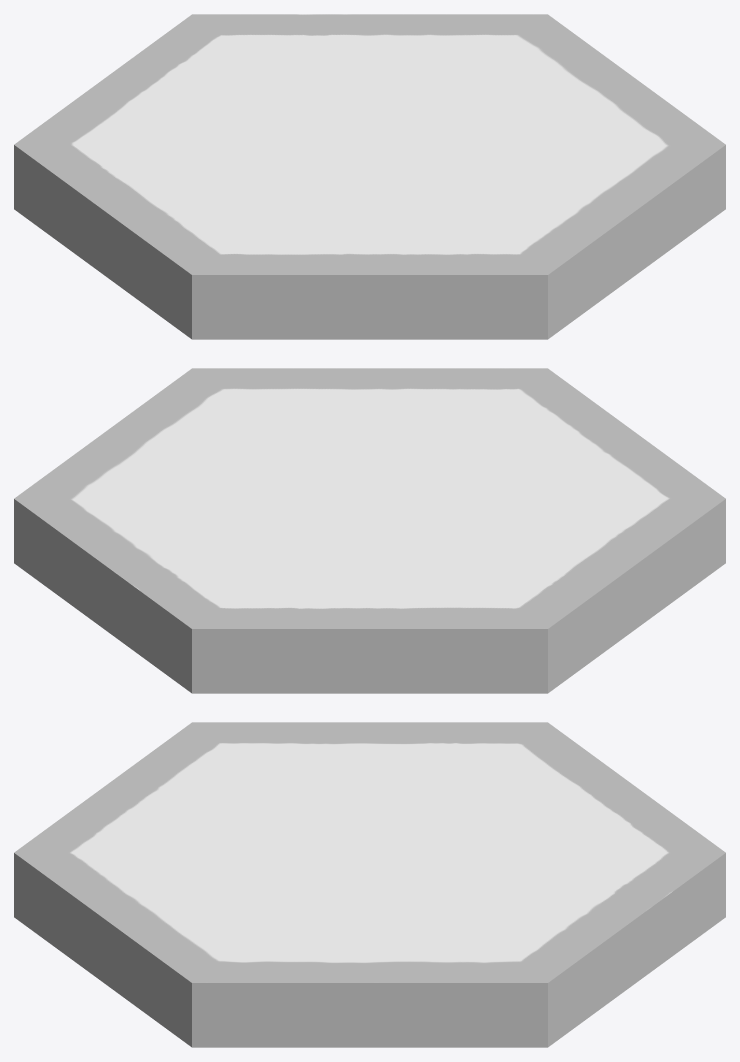
File: Hex.fbx
3 renders of one model, top to bottom at view 1: azimuth 30°, elevation 25°; view 2: azimuth 150°, elevation 25°; view 3: azimuth 270°, elevation 25°, orthographic.
Parts seen in each view (by area): view 1: HexLowPoly, Hex; view 2: HexLowPoly, Hex; view 3: HexLowPoly, Hex.
Part boxes in pixels (x1,y1,x2,y2): HexLowPoly: (14, 14, 725, 274); Hex: (14, 145, 725, 339); HexLowPoly: (14, 368, 725, 628); Hex: (14, 499, 725, 693); HexLowPoly: (14, 722, 725, 982); Hex: (14, 853, 725, 1047).
Size of the model in its own units: 173 by 20 by 200.
Materials: 1 (1 with a texture image).
